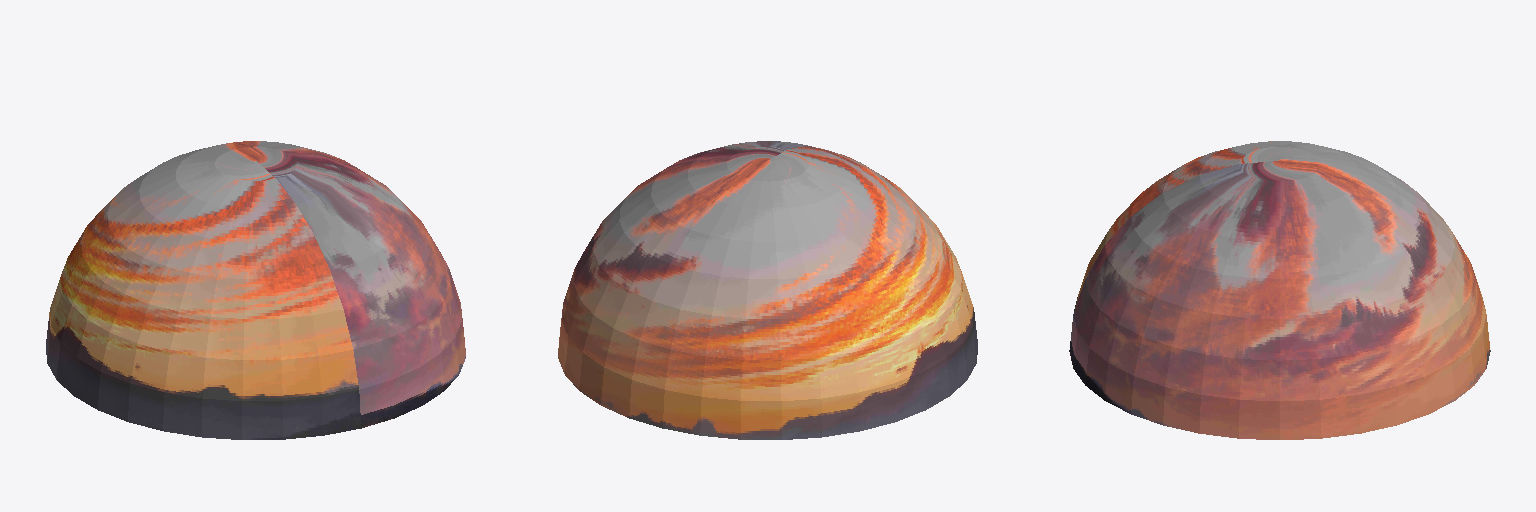
The picture shows the model from 3 angles: view 1: azimuth 30°, elevation 25°; view 2: azimuth 150°, elevation 25°; view 3: azimuth 270°, elevation 25°; orthographic projection.
Visible parts, largest first — view 1: Sphere001; view 2: Sphere001; view 3: Sphere001.
Part boxes in pixels (left/top/right/bottom): Sphere001: left=46, top=141, right=465, bottom=439; Sphere001: left=558, top=141, right=977, bottom=439; Sphere001: left=1069, top=141, right=1490, bottom=439.
Bounding box in the file's own units: 1000 × 500 × 1000.
Materials: 1 (1 with a texture image).